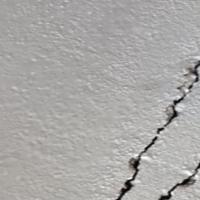crack: (109, 58, 199, 199)
